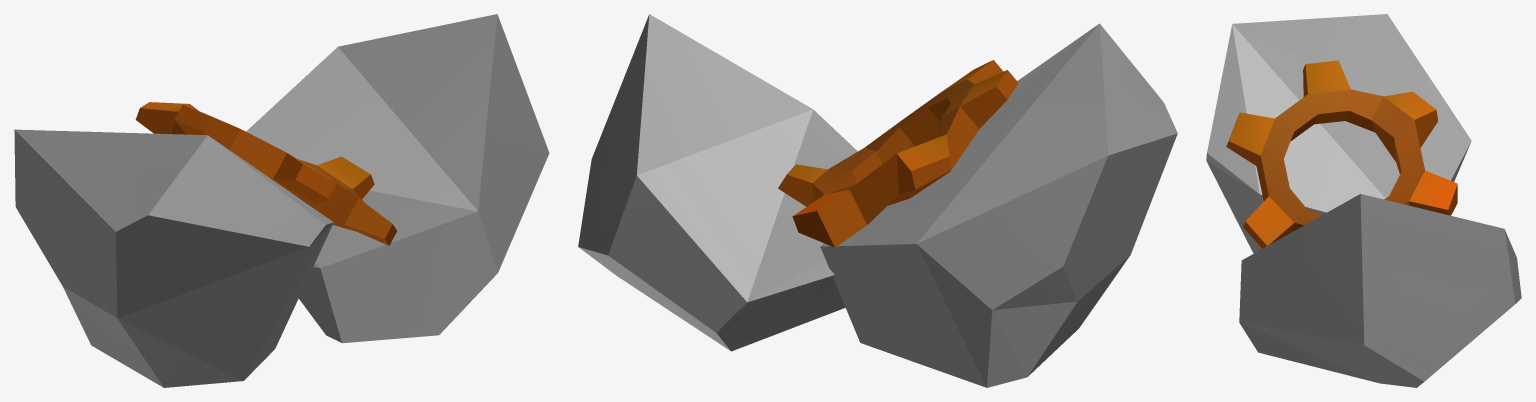
The model's file is obj_stone02_base.gltf.
3 views of the same model, side by side, from view 1: azimuth 30°, elevation 25°; view 2: azimuth 150°, elevation 25°; view 3: azimuth 270°, elevation 25° (orthographic). The views are drawn at different scales.
Visible parts, largest first — view 1: obj_stone02_base; view 2: obj_stone02_base; view 3: obj_stone02_base.
Part boxes in pixels (x1=…): obj_stone02_base: x1=14, y1=14, x2=549, y2=387; obj_stone02_base: x1=578, y1=14, x2=1177, y2=387; obj_stone02_base: x1=1206, y1=14, x2=1521, y2=387.
Size of what is drawn, in the model's own units: 1.14 by 0.5698 by 0.7106.
Materials: 1 (1 with a texture image).
